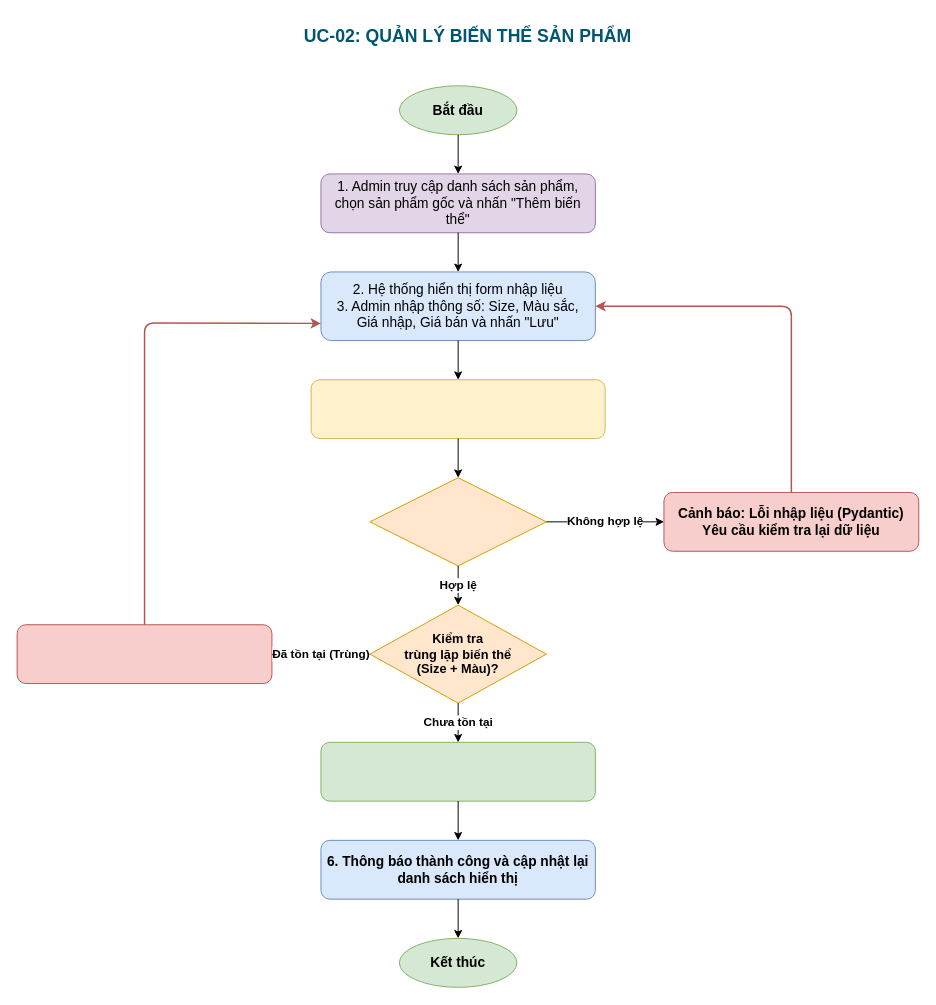
This 936x1005 diagram has some shape labels left out. The centre of each missing label's shape, as x and y in pixels:
5. Hệ thống xác thực dữ liệu đầu vào (Pydantic): pixel 457 409
Cảnh báo lỗi Unique Constraint: "Biến thể này đã tồn tại": pixel 144 654
Dữ liệu đầu vào hợp lệ (Pydantic)?: pixel 457 521
Lưu thông tin vào bảng Product_Variants trong Cơ sở dữ liệu: pixel 457 771
